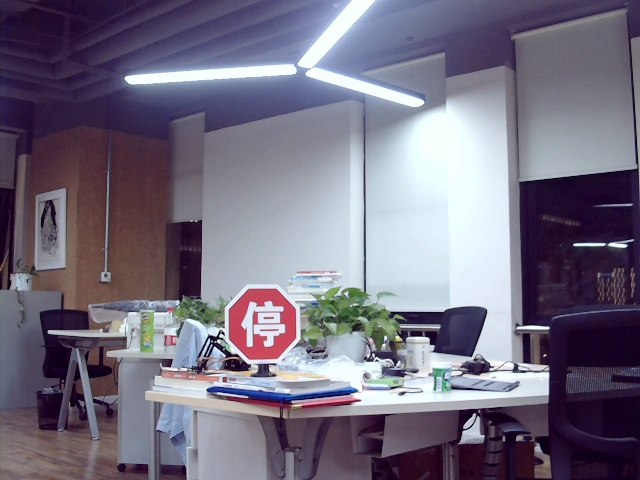stop: (239, 299, 286, 348)
